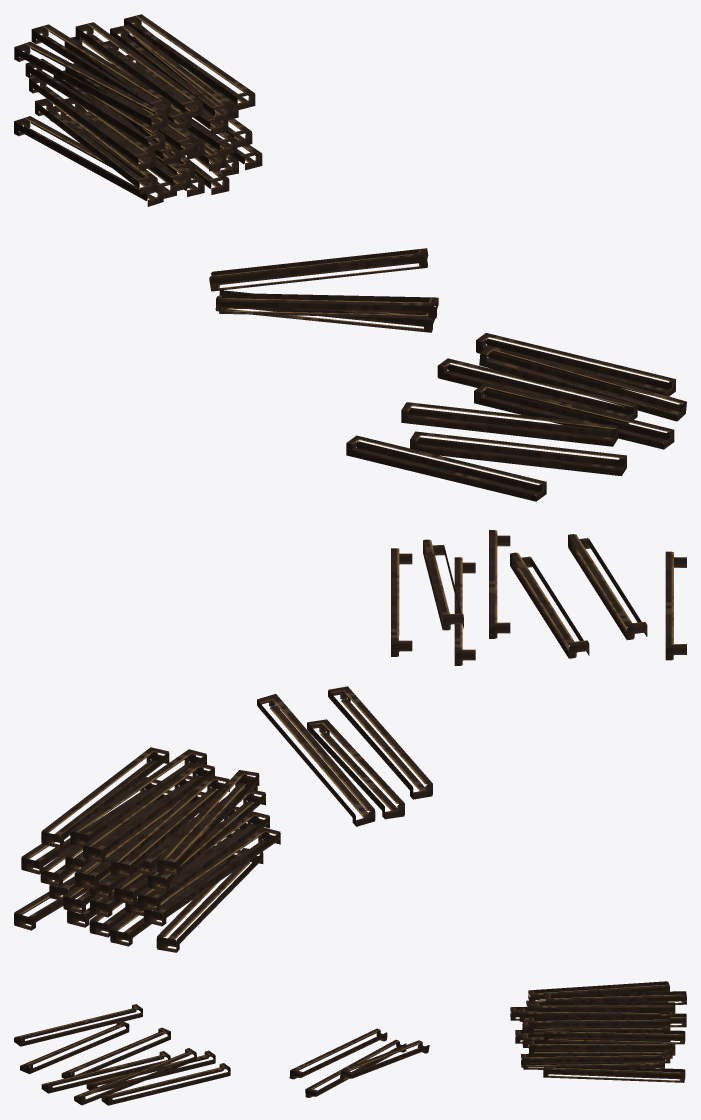
File: ObjMD_Timber_A_04.FBX
3 renders of one model, top to bottom at view 1: azimuth 30°, elevation 25°; view 2: azimuth 150°, elevation 25°; view 3: azimuth 270°, elevation 25°, orthographic. The views are drawn at different scales.
Visible parts, largest first — view 1: ObjMD_Timber_A_03, ObjMD_Timber_A_02, ObjMD_Timber_A_04; view 2: ObjMD_Timber_A_03, ObjMD_Timber_A_02, ObjMD_Timber_A_04; view 3: ObjMD_Timber_A_03, ObjMD_Timber_A_02, ObjMD_Timber_A_04.
Part boxes in pixels (x1,y1,x2,y2): ObjMD_Timber_A_03: (14,14,262,206); ObjMD_Timber_A_02: (346,333,686,501); ObjMD_Timber_A_04: (209,248,438,332); ObjMD_Timber_A_03: (14,747,280,952); ObjMD_Timber_A_02: (391,530,686,665); ObjMD_Timber_A_04: (257,686,432,826); ObjMD_Timber_A_03: (510,981,686,1082); ObjMD_Timber_A_02: (14,1004,230,1105); ObjMD_Timber_A_04: (289,1028,429,1097).
Bounding box in the file's own units: 324 × 114 × 952.
